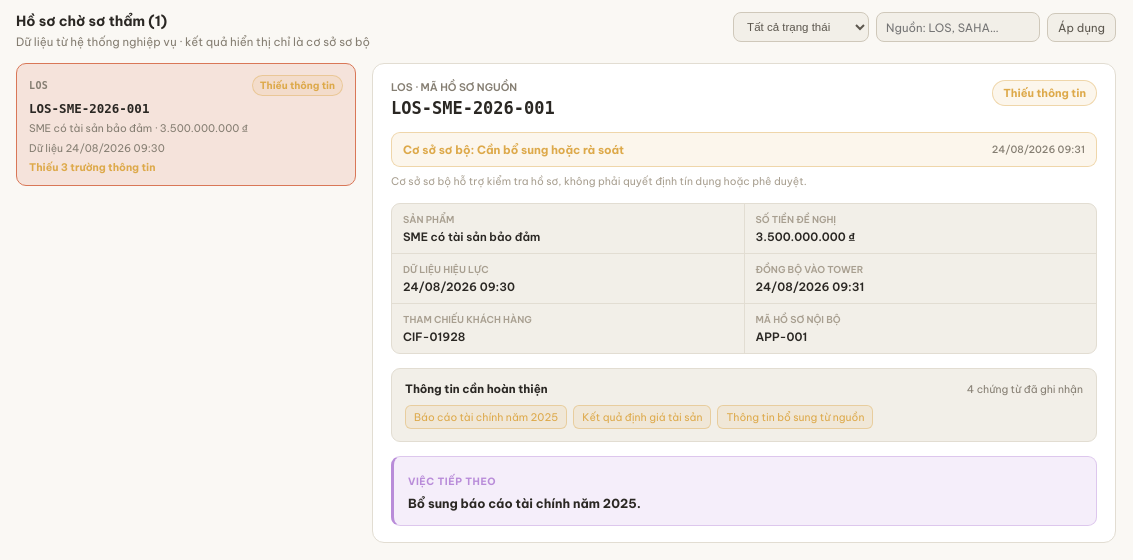
Test: CaseWorkbench contract coverage › lọc gọi đúng status/source/limit và dùng filter-empty riêng
Expected: the element with test id "case-detail" is shown, [372, 63, 1116, 543]
Select "Cần chuyên gia" in the dropdown named "Lọc theo trạng thái hồ sơ" at (801, 27), box [733, 12, 869, 42]
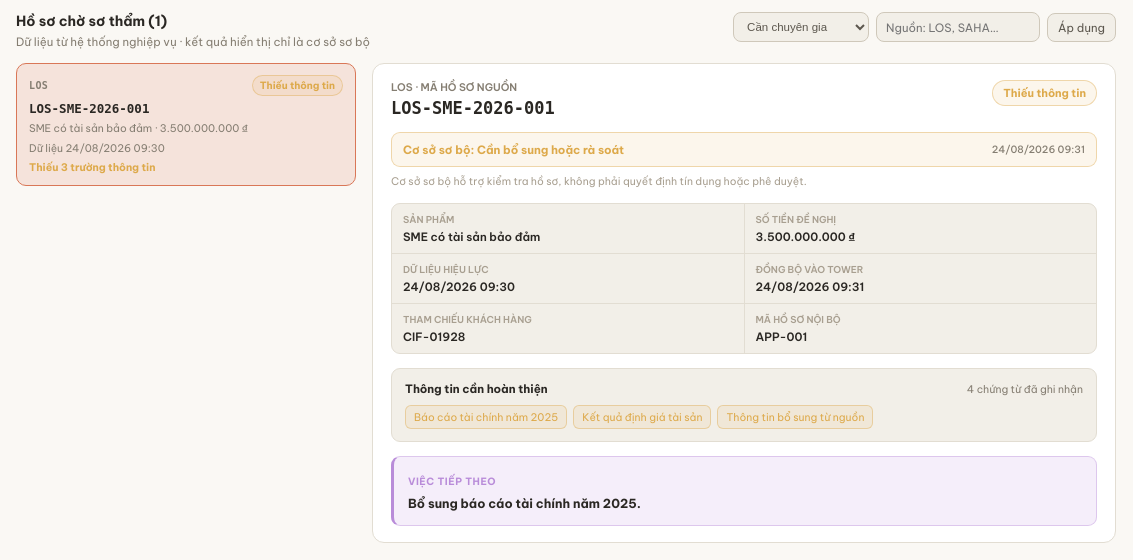
Type " los " into the field named "Lọc theo nguồn hồ sơ".
click(958, 27); type(" los ")  # box [876, 12, 1040, 42]
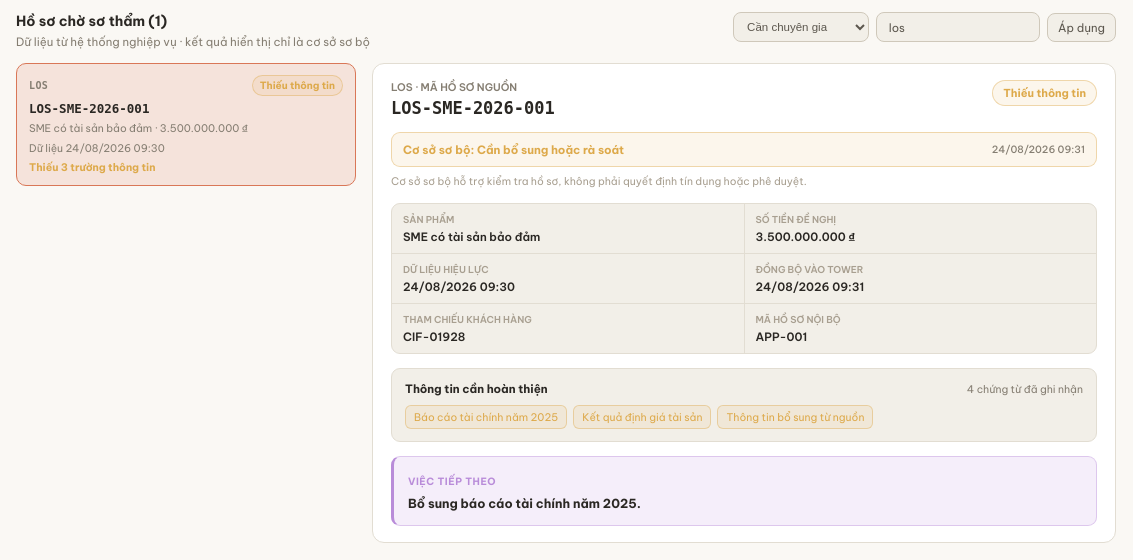
Click the button "Áp dụng".
click(1082, 27)  # box [1047, 12, 1116, 42]
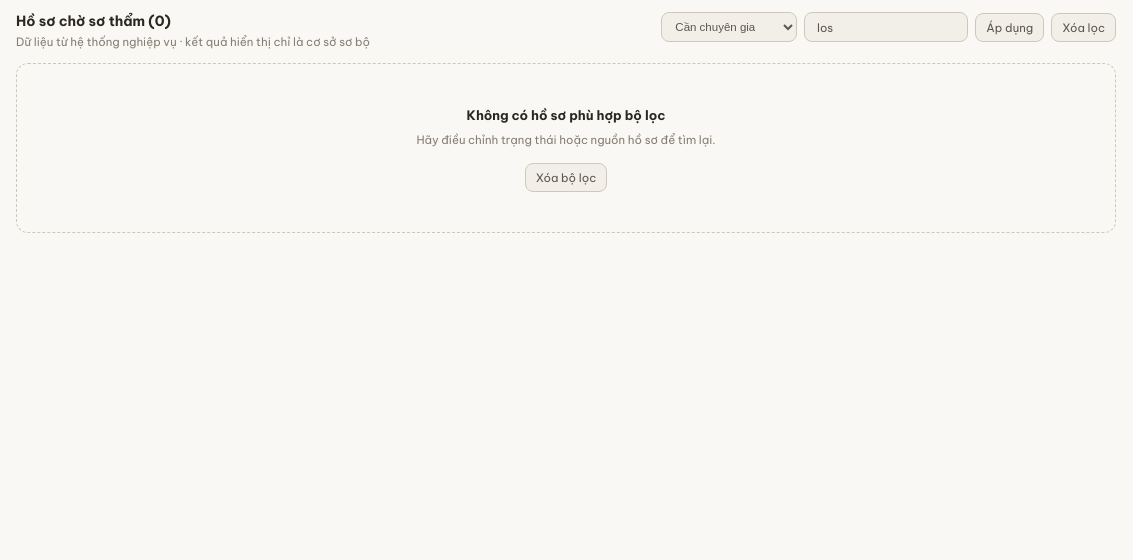
Expected: the text "Không có hồ sơ phù hợp bộ lọc" is shown, [467, 107, 665, 123]
